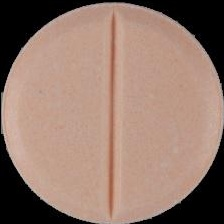21695-539: (0, 0, 224, 224)
